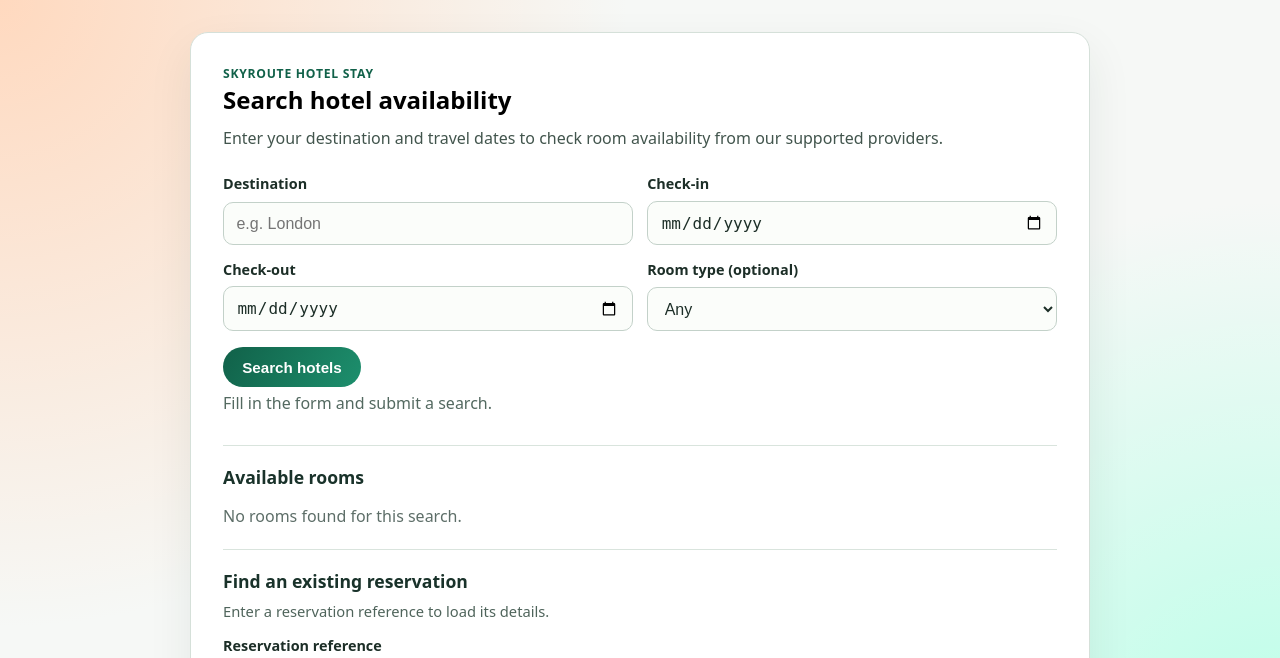
App — validation state › shows an error when destination is not in the supported list
Type "Springfield" into the field labelled "Destination" at (428, 224), box [223,202,633,246]
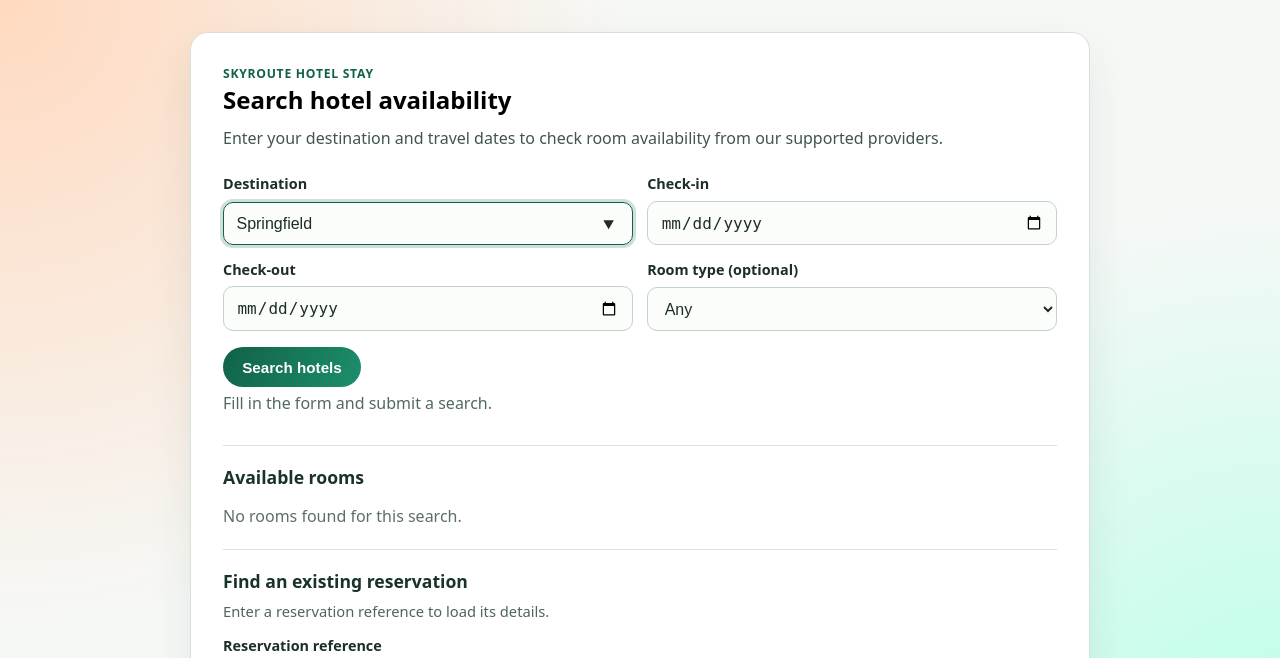
Type "2026-09-01" into the date field labelled "Check-in" at (852, 223), box [647,201,1057,246]
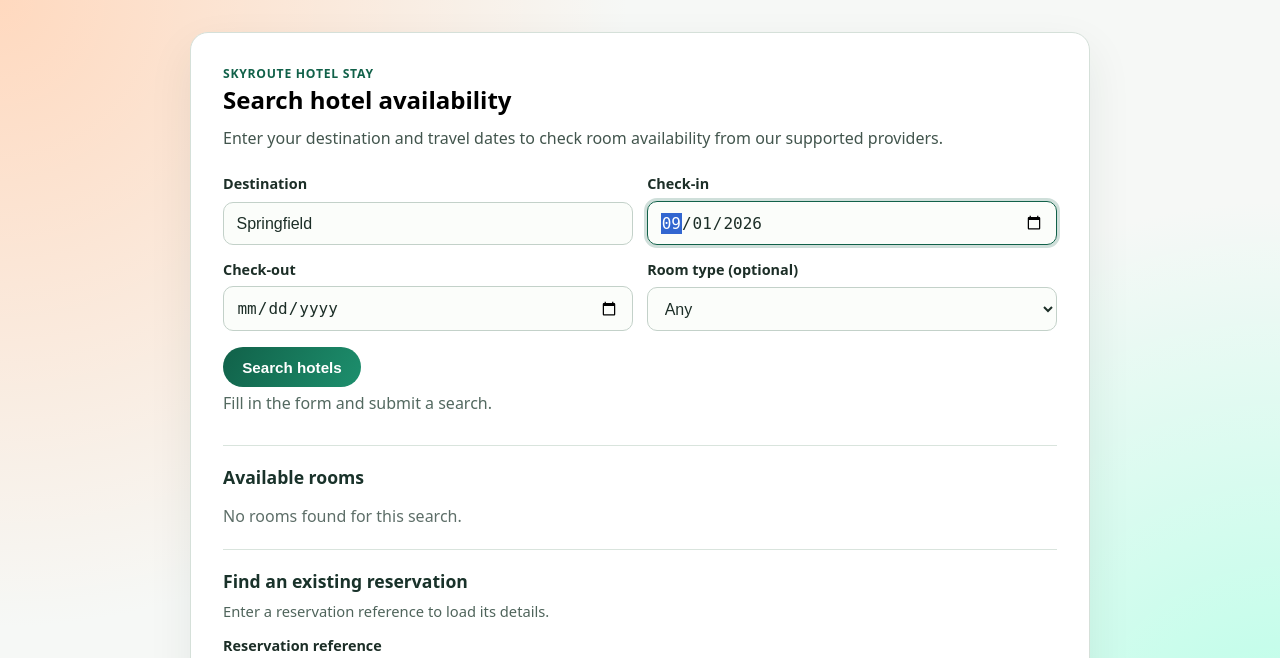
Type "2026-09-04" into the date field labelled "Check-out" at (428, 309), box [223,286,633,331]
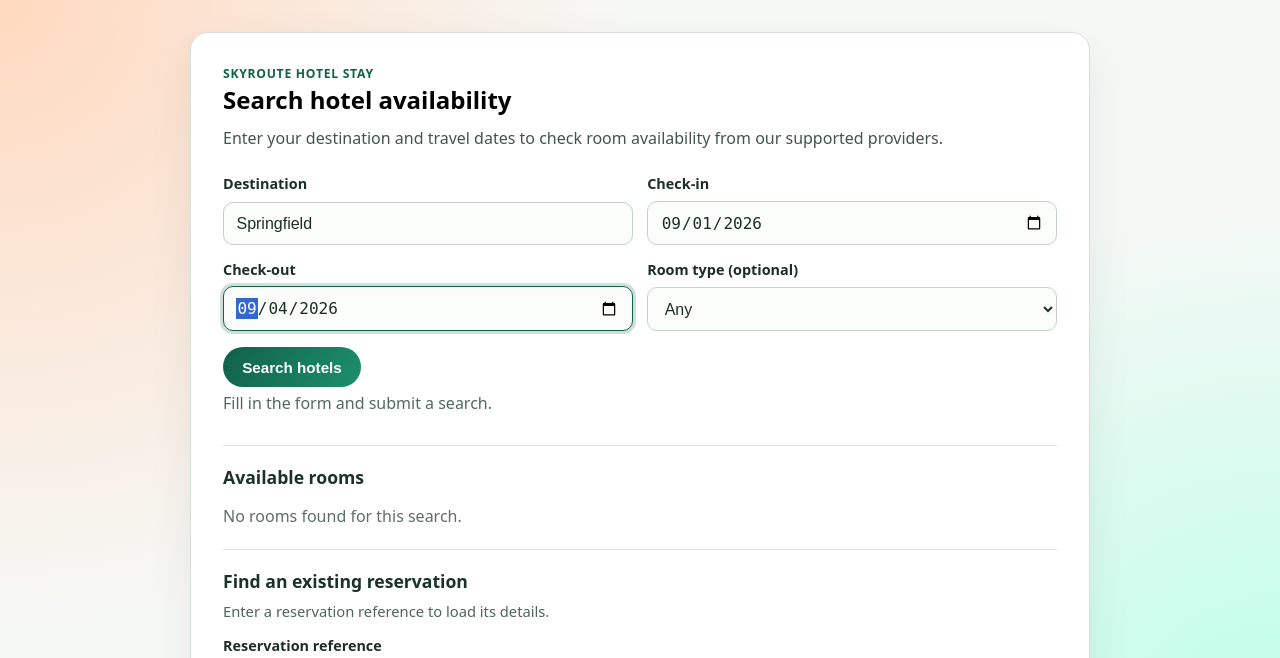
Click the button "Search hotels" at (292, 367), box [223,347,361,387]
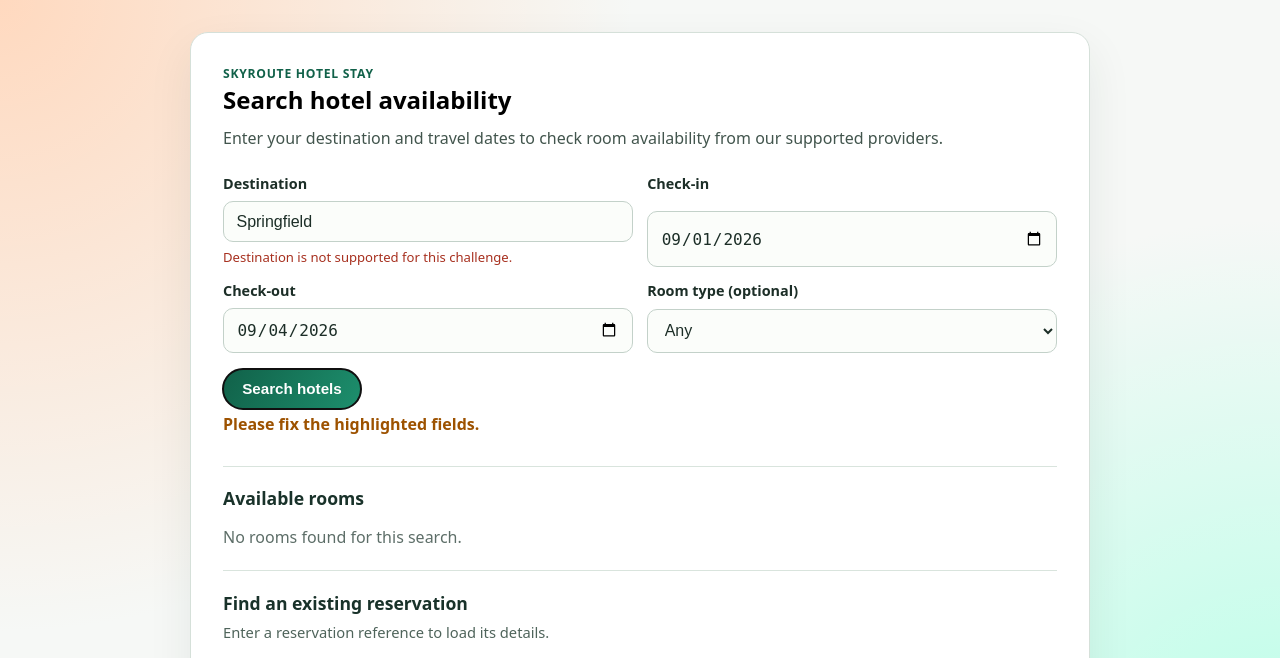
Expected: the text "Destination is not supported for this challenge." is shown, [223,248,512,266]
